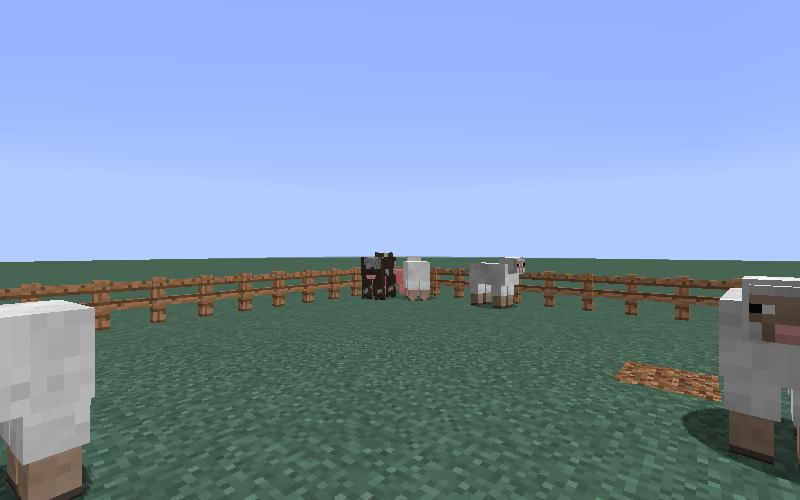cow: (356, 247, 397, 303)
sheep: (718, 273, 800, 462), (466, 253, 528, 313), (402, 253, 435, 306)
